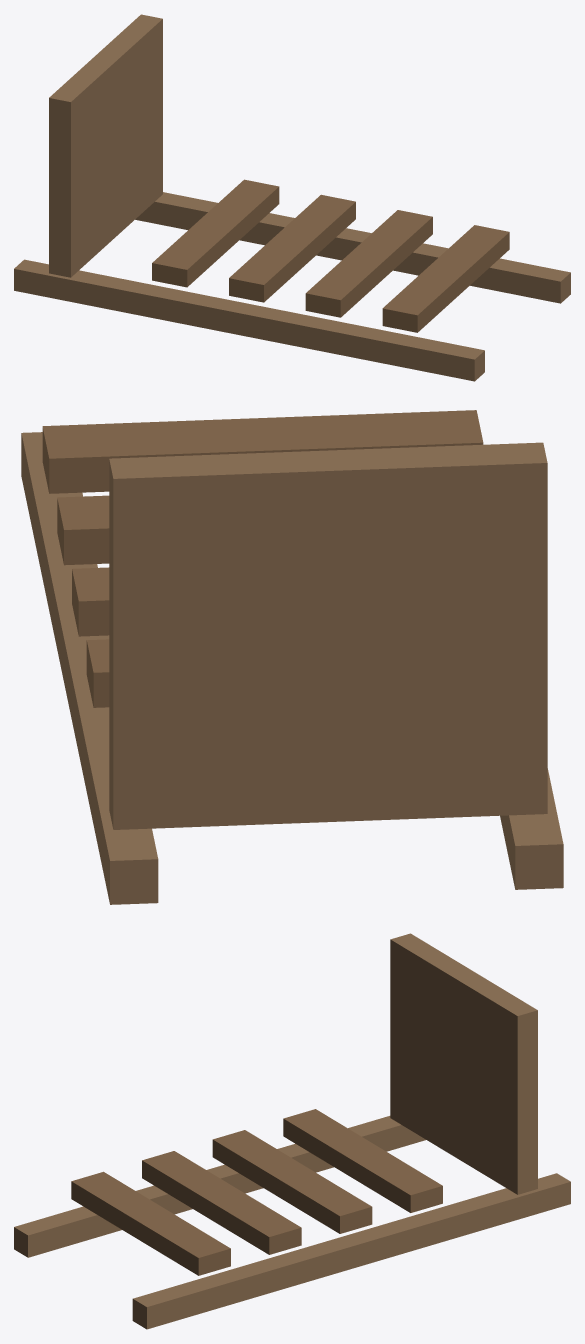
Rendered from Sledge.glb.
3 views of the same model, one above another, from view 1: azimuth 30°, elevation 25°; view 2: azimuth 150°, elevation 25°; view 3: azimuth 270°, elevation 25° (orthographic). The views are drawn at different scales.
Parts seen in each view (by area): view 1: SledgeBack, SledgeRunnerL, SledgeRunnerR, SledgeSlat1, SledgeSlat2, SledgeSlat4, SledgeSlat3; view 2: SledgeBack, SledgeSlat1, SledgeRunnerR, SledgeRunnerL, SledgeSlat2, SledgeSlat3, SledgeSlat4; view 3: SledgeBack, SledgeRunnerR, SledgeSlat3, SledgeSlat1, SledgeSlat2, SledgeSlat4, SledgeRunnerL.
Part boxes in pixels (x1,y1,x2,y2): SledgeBack: (49, 14, 162, 277); SledgeRunnerL: (14, 259, 484, 381); SledgeRunnerR: (135, 192, 570, 303); SledgeSlat1: (382, 225, 509, 332); SledgeSlat2: (305, 210, 432, 317); SledgeSlat4: (152, 179, 279, 287); SledgeSlat3: (229, 194, 355, 302); SledgeBack: (109, 442, 547, 829); SledgeSlat1: (42, 410, 483, 493); SledgeRunnerR: (21, 432, 158, 904); SledgeRunnerL: (500, 768, 563, 889); SledgeSlat2: (57, 495, 109, 565); SledgeSlat3: (72, 567, 109, 636); SledgeSlat4: (86, 639, 109, 707); SledgeBack: (390, 933, 537, 1194); SledgeRunnerR: (132, 1173, 570, 1329); SledgeSlat3: (212, 1130, 372, 1233); SledgeSlat1: (71, 1171, 230, 1275); SledgeSlat2: (142, 1151, 301, 1254); SledgeSlat4: (283, 1109, 442, 1212); SledgeRunnerL: (14, 1116, 425, 1257).
Size of the model in its own units: 1.97 by 0.9 by 2.26.
